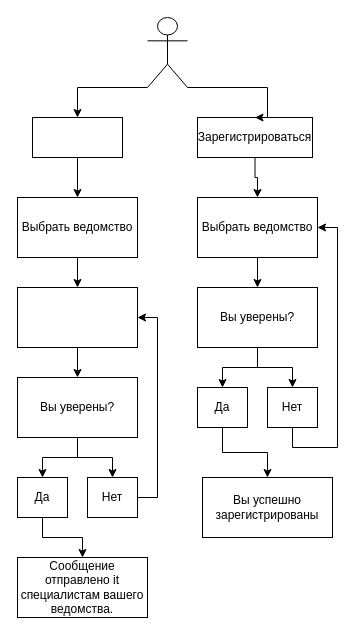
This 363x635 diagram has some shape labels left out. Here are the shapes that lost their labels. From the top down, the centre of each, then its label:
the point at 167,52: Пользователь
the point at 77,137: Написать в ит отдел
the point at 77,317: Сообщить о неполадках
